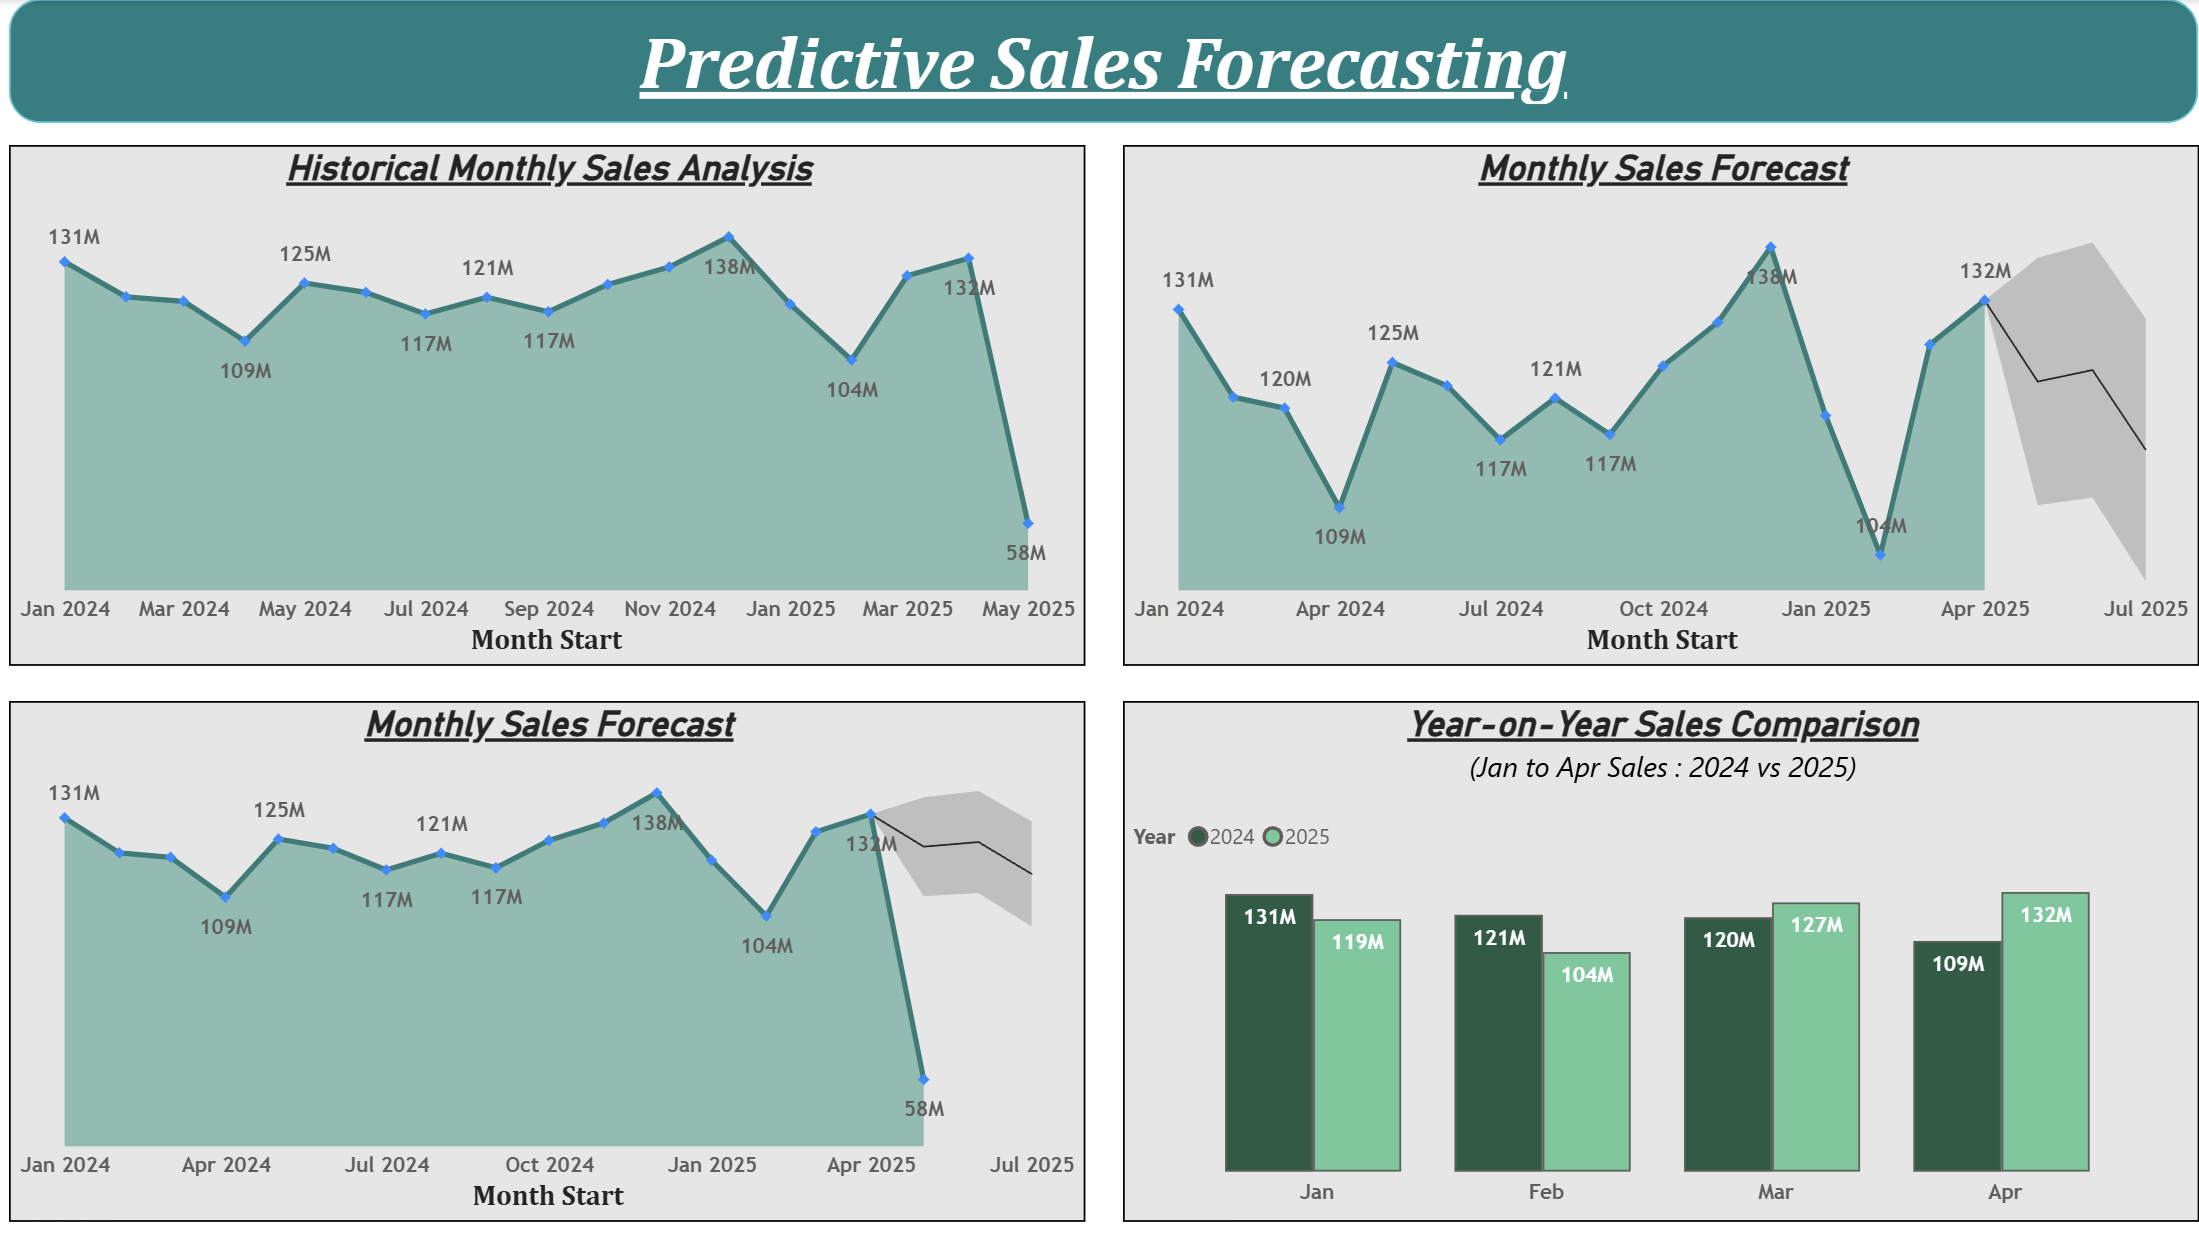

What the dashboard file says about the page in this screenshot:
{"tool":"powerbi","page":{"name":"L3 | T1","canvas":[1280,720],"ordinal":5},"visuals":[{"type":"shape","box":[10.2,0,1260.9,71.4],"z":0},{"type":"lineChart","title":"Historical Monthly Sales Analysis","fields":{"Category":["Sales_data.Month Start.Variation.Date Hierarchy.Year","Sales_data.Month Start.Variation.Date Hierarchy.Month"],"Y":["Measures Table 1.Total Sales"]},"box":[10.2,84.1,620,300],"z":1000},{"type":"lineChart","title":"Monthly Sales Forecast","fields":{"Category":["Sales_data.Month Start"],"Y":["Measures Table 1.Total Sales"]},"box":[10.2,404.1,620,300],"z":3000},{"type":"clusteredColumnChart","title":"Year-on-Year Sales Comparison","fields":{"Category":["Sales_data.Month Name"],"Series":["Sales_data.Year"],"Y":["Measures Table 1.Total Sales"]},"box":[651.5,404.1,620,300],"z":4000},{"type":"lineChart","title":"Monthly Sales Forecast ","fields":{"Category":["Sales_data.Month Start"],"Y":["Measures Table 1.Total Sales"]},"box":[651.5,84.1,620,300],"z":4001}]}

Visuals, with their boxes in screenshot pixels (x1, y1, x2, y2), scaled from the page's 1280x720 canvas onto the 2199x1233 screenshot:
shape: crop(18, 0, 2184, 122)
"Historical Monthly Sales Analysis" lineChart: crop(18, 144, 1083, 658)
"Monthly Sales Forecast" lineChart: crop(18, 692, 1083, 1206)
"Year-on-Year Sales Comparison" clusteredColumnChart: crop(1119, 692, 2184, 1206)
"Monthly Sales Forecast " lineChart: crop(1119, 144, 2184, 658)
